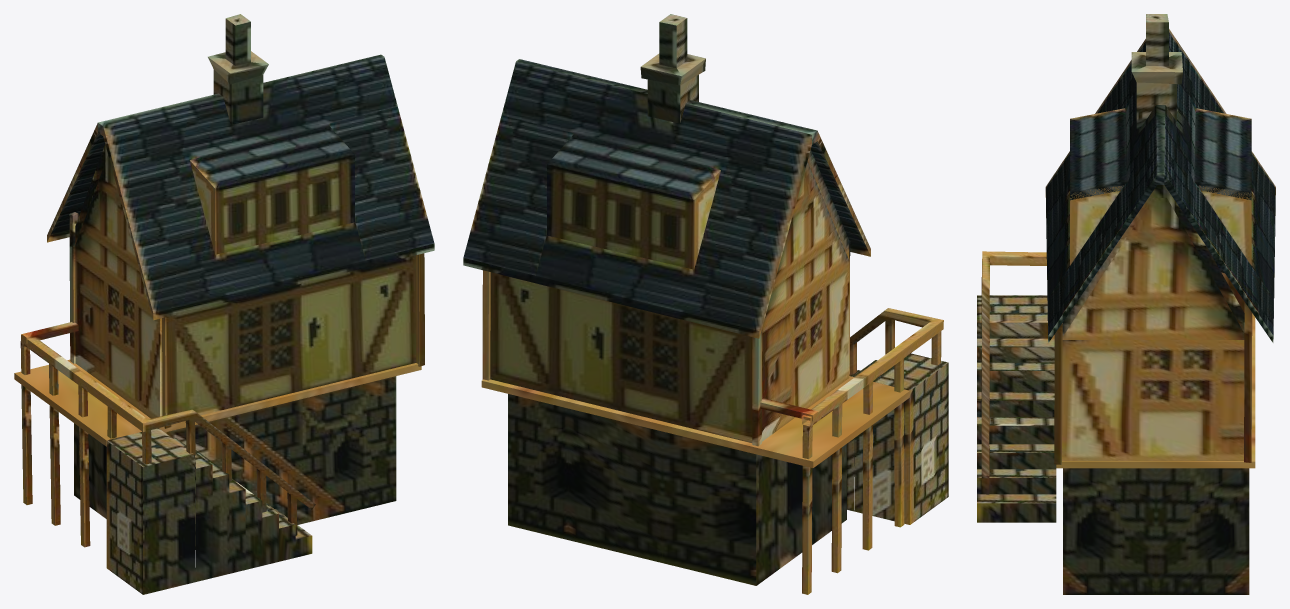
3 renders of one model, left to right at view 1: azimuth 30°, elevation 25°; view 2: azimuth 150°, elevation 25°; view 3: azimuth 270°, elevation 25°, orthographic. The views are drawn at different scales.
Parts seen in each view (by area): view 1: h9; view 2: h9; view 3: h9.
Boxes of the visible parts, x1,y1,x2,y2 form: h9: [14, 14, 434, 594]; h9: [463, 14, 948, 594]; h9: [977, 14, 1275, 594].
Size of the model in its own units: 1.69 by 2.37 by 1.24.
1 material, 1 textured.
